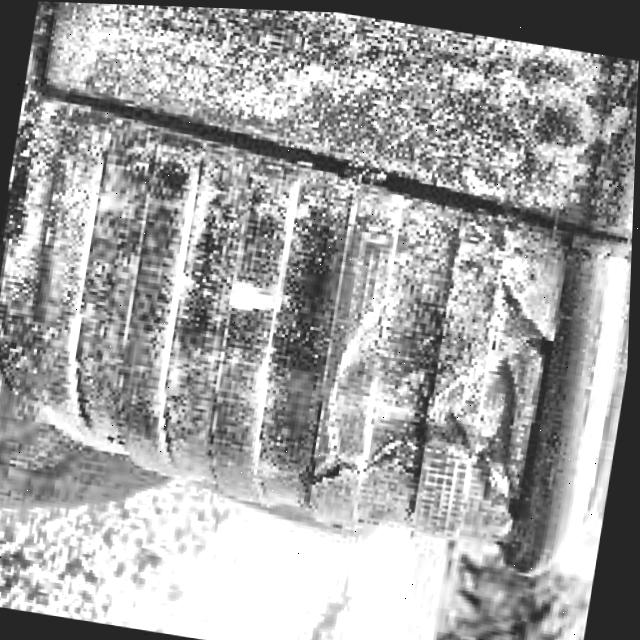tail_lamp: (286, 196, 568, 562)
